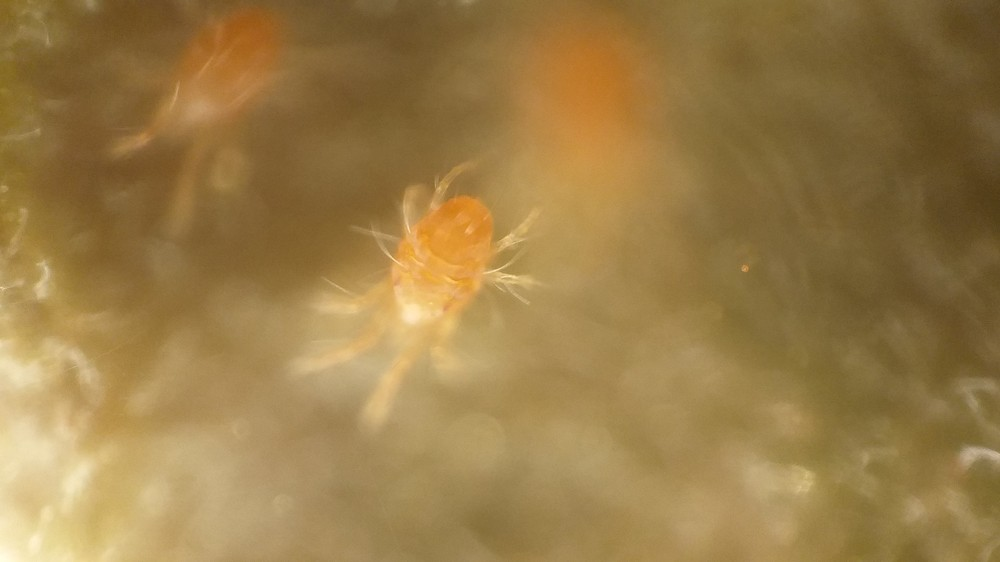Aracnido Rojo: (285, 158, 554, 421)
